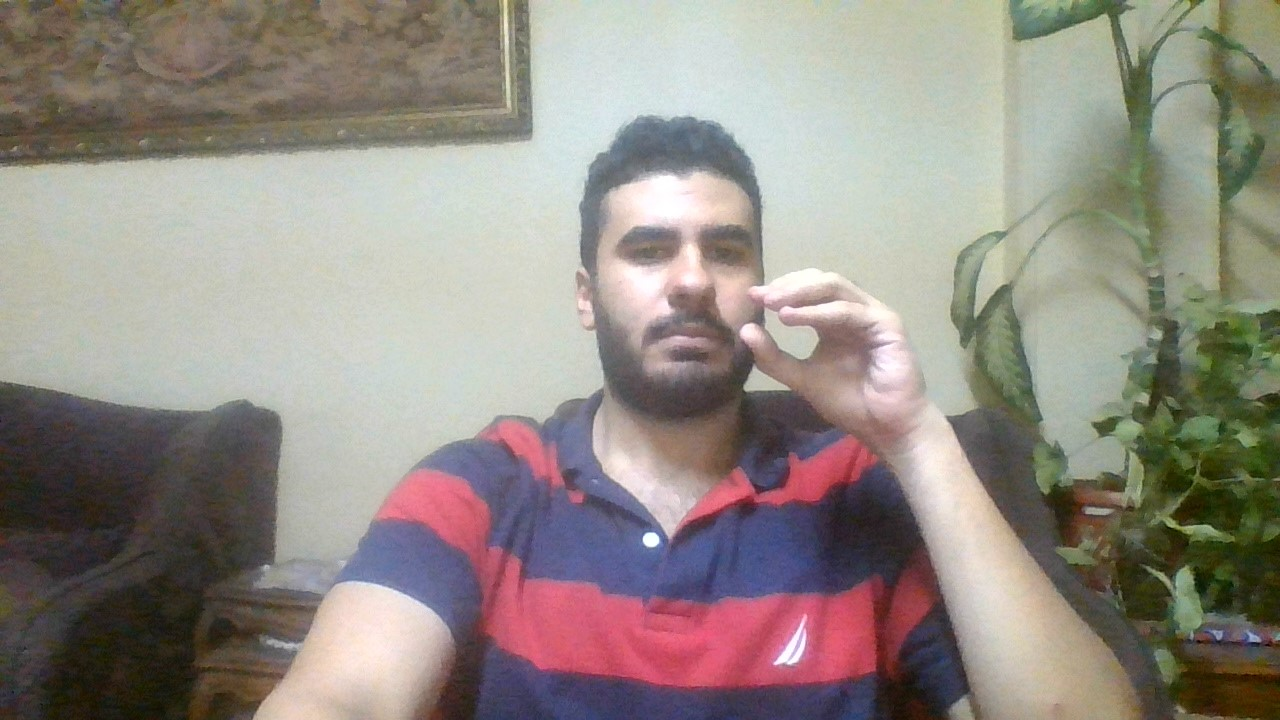drink: (744, 265, 931, 439)
